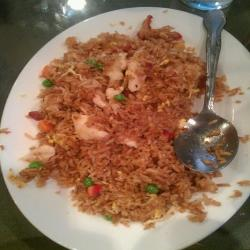rice: (57, 55, 175, 212)
